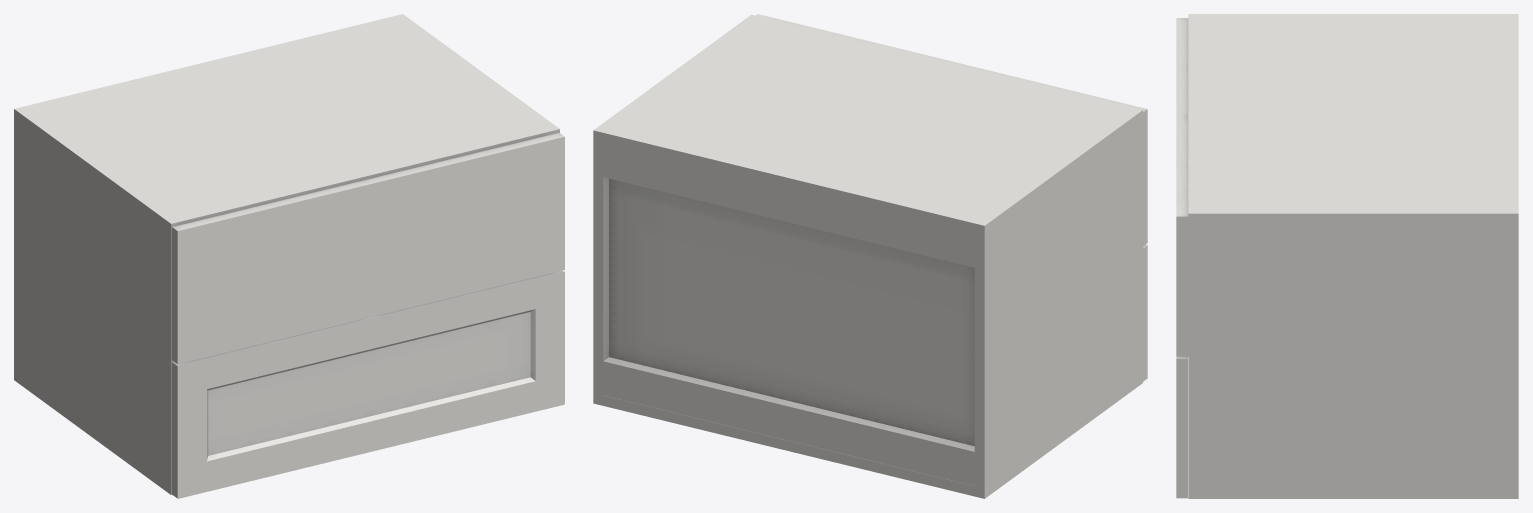
Rendered from floating-vanity-1-drawer-doors-on.glb.
The picture shows the model from 3 angles, left to right: view 1: azimuth 30°, elevation 25°; view 2: azimuth 150°, elevation 25°; view 3: azimuth 270°, elevation 25°; orthographic projection. The views are drawn at different scales.
Parts seen in each view (by area): view 1: part_0, part_4; view 2: part_0, part_4; view 3: part_0, part_4.
Boxes of the visible parts, <box> form: part_0: <box>14,14,564,494</box>; part_4: <box>172,270,564,498</box>; part_0: <box>593,14,1147,498</box>; part_4: <box>1143,244,1147,381</box>; part_0: <box>1176,14,1518,498</box>; part_4: <box>1176,356,1187,498</box>.
Bounding box in the file's own units: 0.762 × 0.508 × 0.5527.
3 materials, 2 textured.
